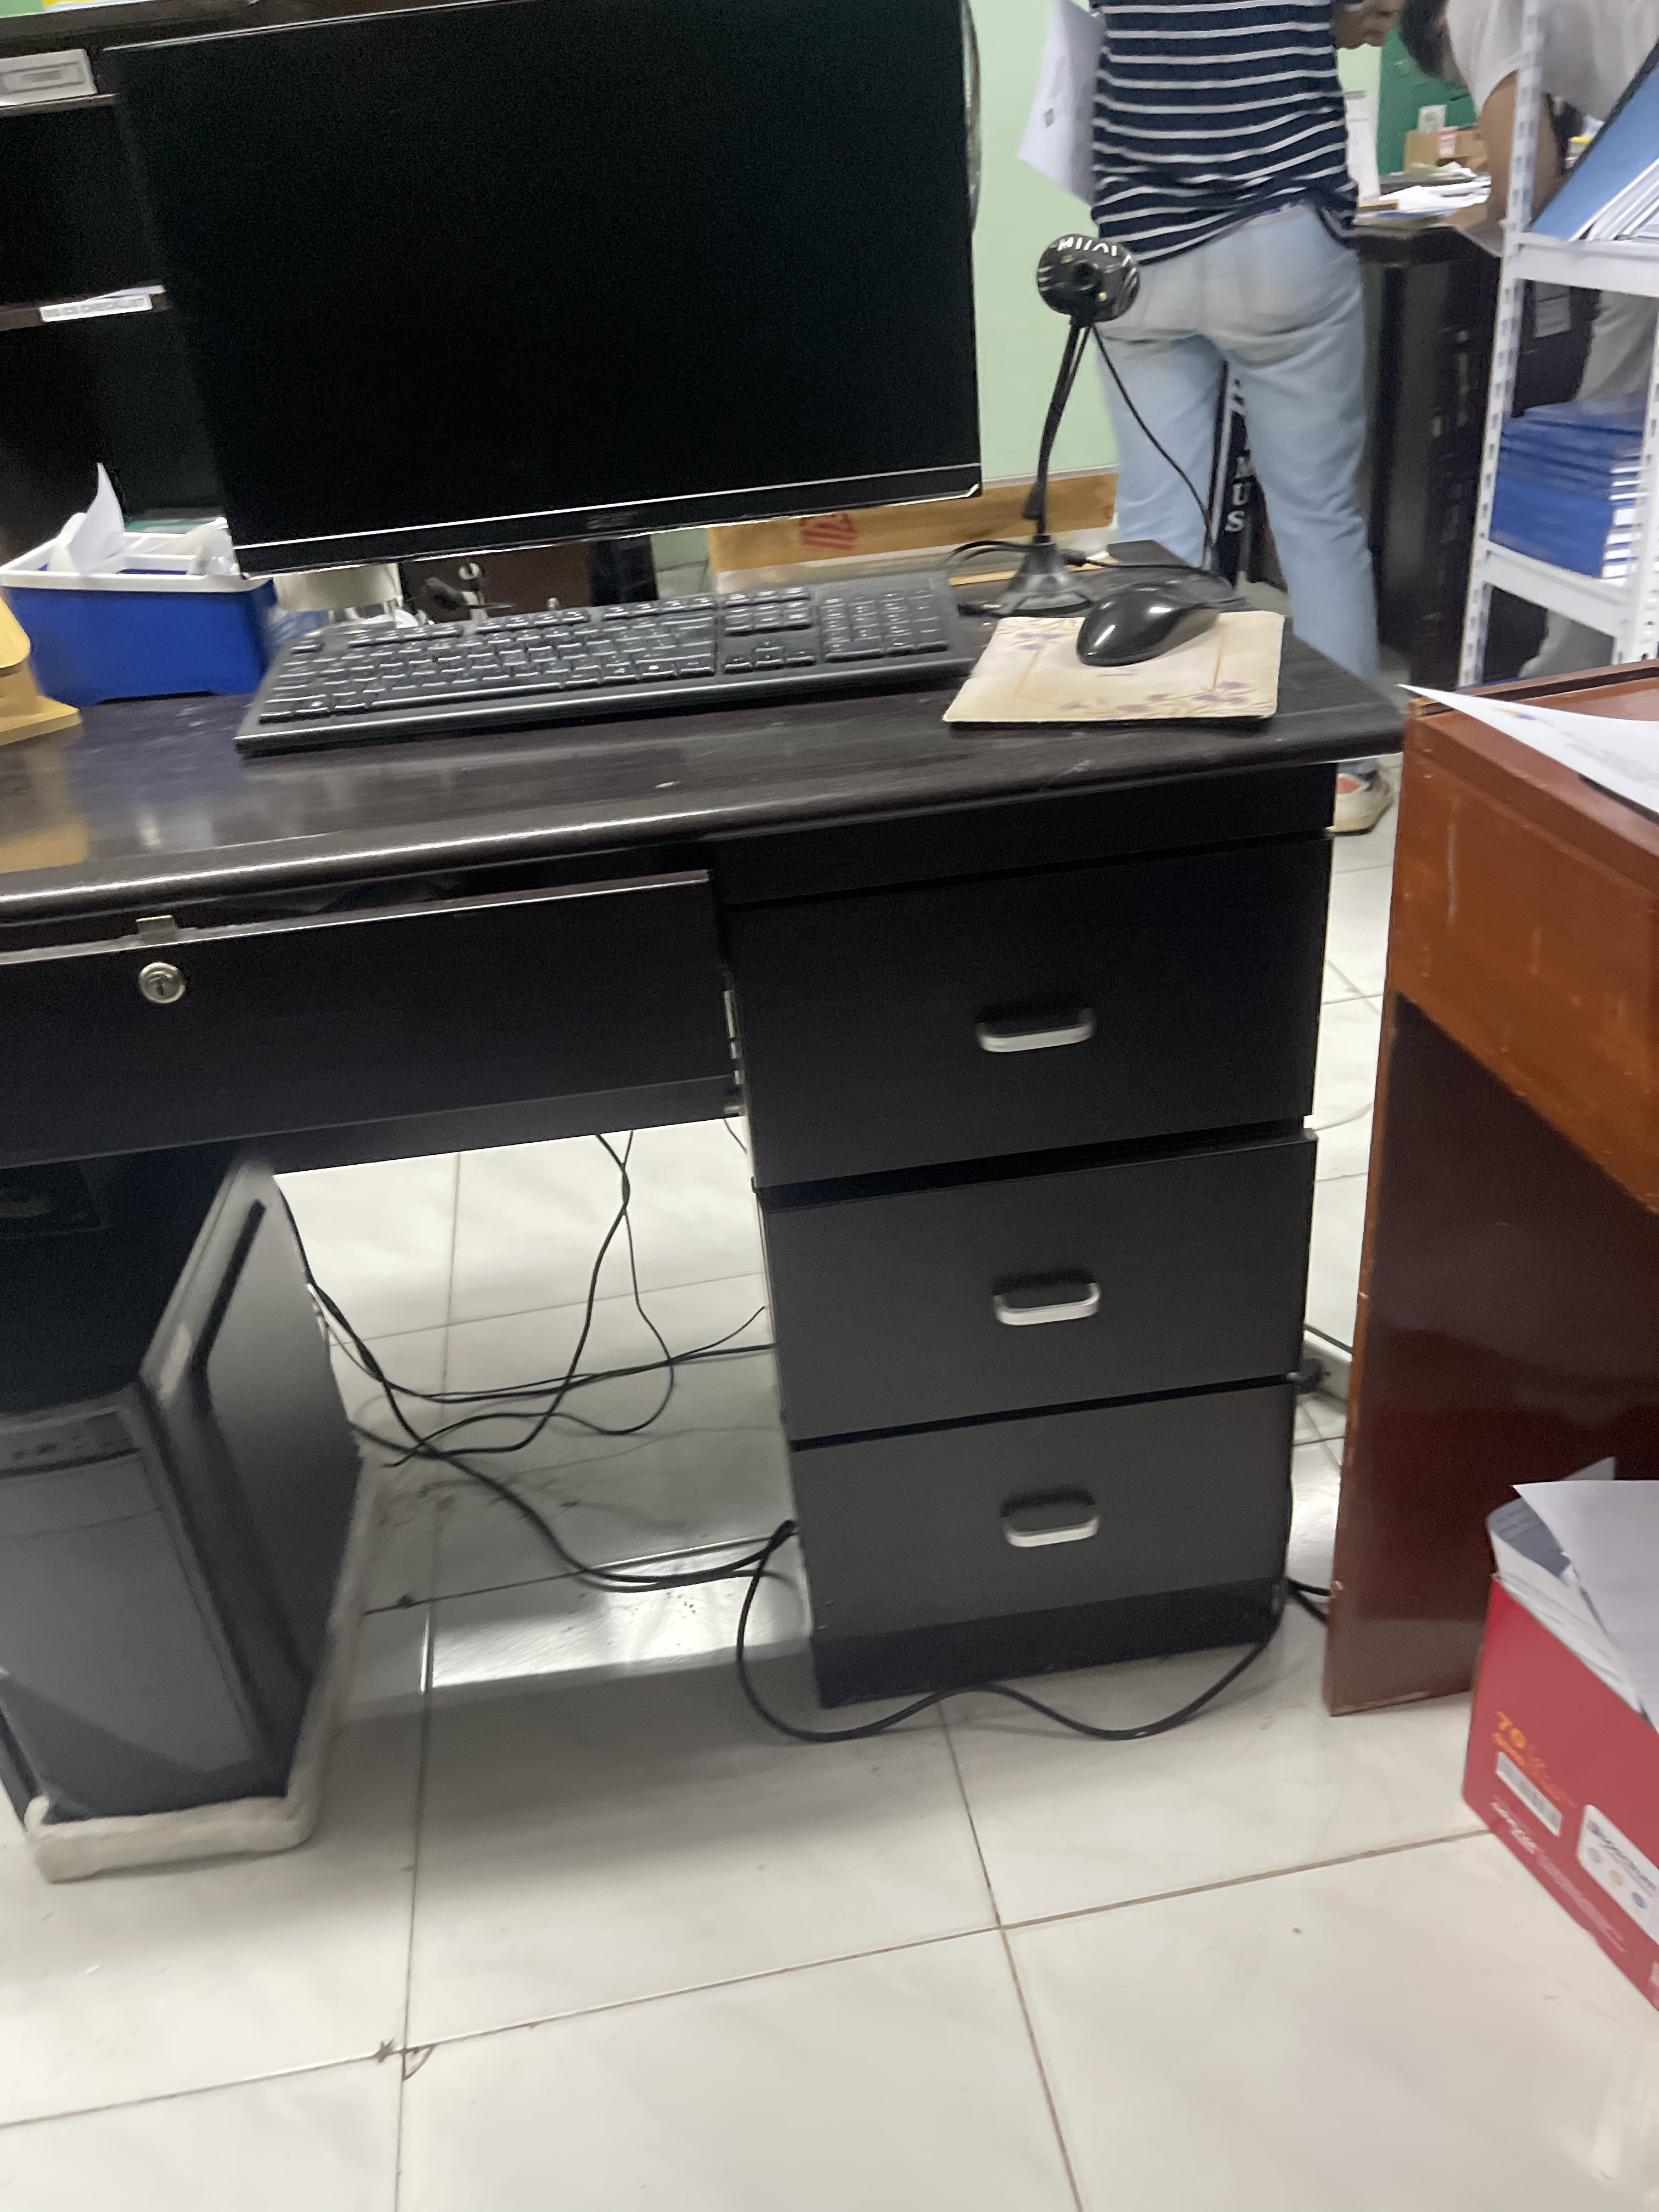table1: (0, 493, 1413, 1935)
